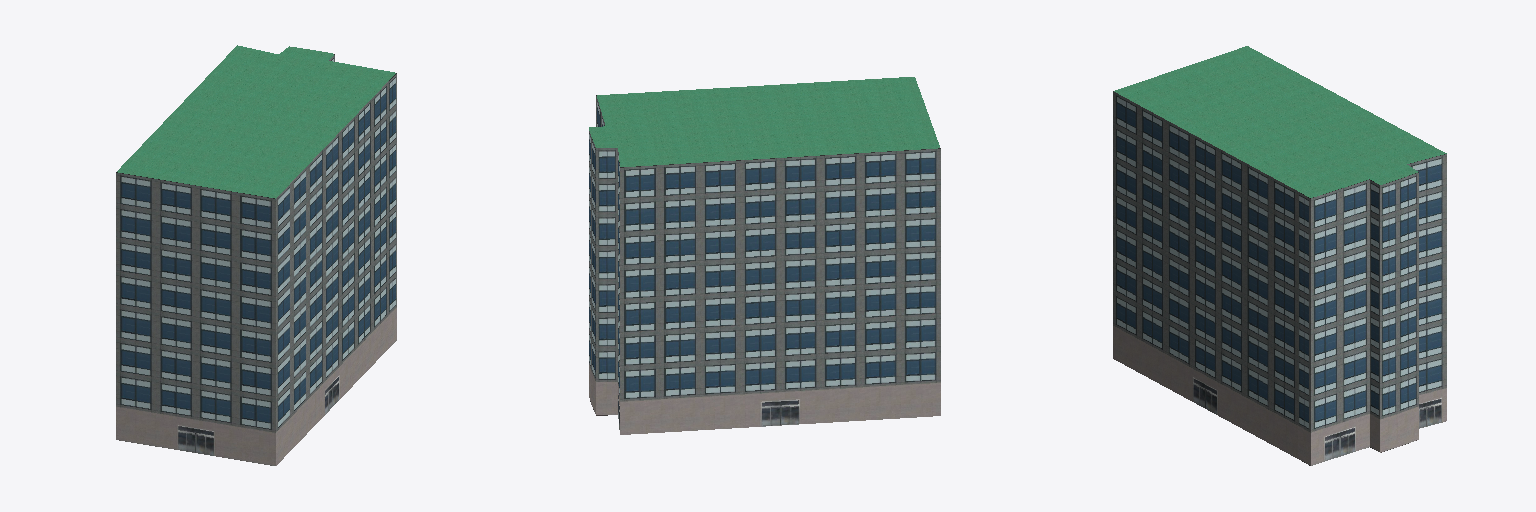
3 renders of one model, left to right at view 1: azimuth 30°, elevation 25°; view 2: azimuth 150°, elevation 25°; view 3: azimuth 270°, elevation 25°, orthographic.
Parts seen in each view (by area): view 1: BuildingMaster_[number redacted]_0, BuildingMaster_[number redacted]_1; view 2: BuildingMaster_[number redacted]_0, BuildingMaster_[number redacted]_1; view 3: BuildingMaster_[number redacted]_0, BuildingMaster_[number redacted]_1.
Boxes of the visible parts, box(x1,y1,x2,y2) form: BuildingMaster_[number redacted]_0: box(116, 54, 396, 465); BuildingMaster_[number redacted]_1: box(117, 45, 395, 198); BuildingMaster_[number redacted]_0: box(589, 95, 940, 434); BuildingMaster_[number redacted]_1: box(589, 77, 939, 166); BuildingMaster_[number redacted]_0: box(1113, 91, 1446, 465); BuildingMaster_[number redacted]_1: box(1114, 46, 1446, 197).
Bounding box in the file's own units: 34.22 × 28 × 31.63.
2 materials, 2 textured.